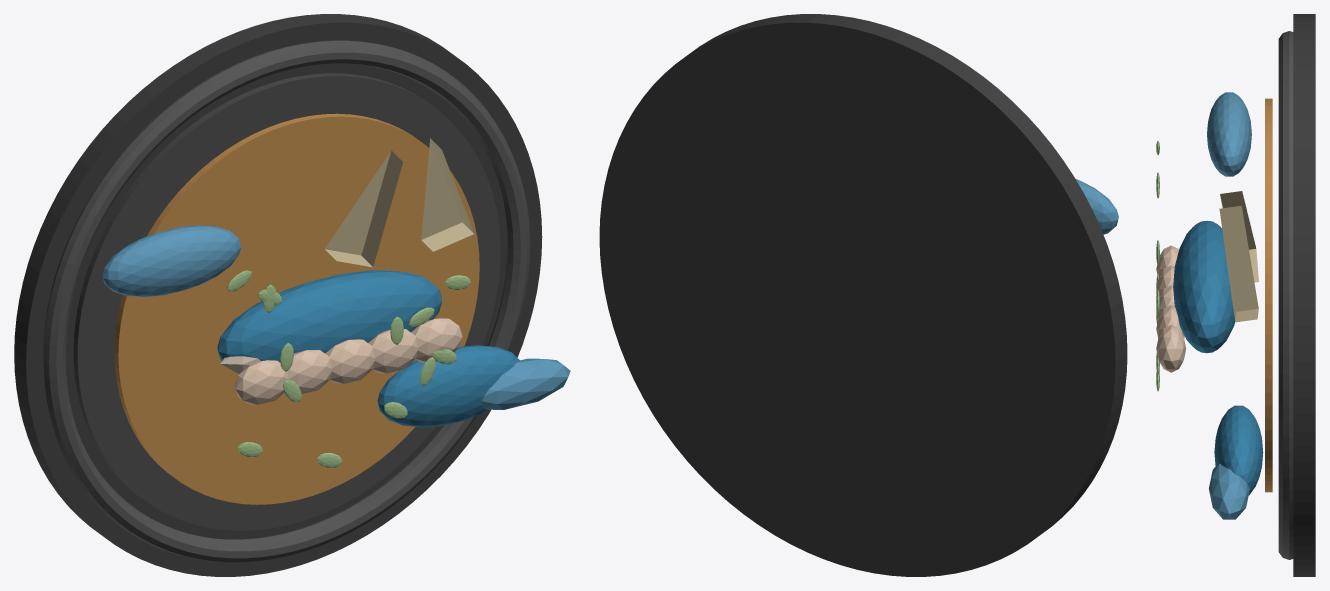
File: 03_blue_lobster_bisque_fennel.glb
3 views of the same model, side by side, from view 1: azimuth 30°, elevation 25°; view 2: azimuth 150°, elevation 25°; view 3: azimuth 270°, elevation 25° (orthographic). The views are drawn at different scales.
Visible parts, largest first — view 1: lobster_bisque_pool, plate_base, plate_surface, plate_rim, blue_lobster_body_shell, back_claw, foreground_claw, braised_fennel_0, braised_fennel_1, claw_tip, lobster_meat_lump_0, lobster_meat_lump_2 (+3 smaller); view 2: plate_base, back_claw; view 3: plate_base, plate_rim, blue_lobster_body_shell, lobster_bisque_pool, back_claw, foreground_claw, braised_fennel_1, claw_tip, lobster_meat_lump_4, braised_fennel_0, lobster_meat_lump_3, lobster_meat_lump_0 (+2 smaller).
Boxes of the visible parts, x1,y1,x2,y2 form: lobster_bisque_pool: [114, 113, 479, 504]; plate_base: [14, 14, 542, 576]; plate_surface: [73, 73, 500, 530]; plate_rim: [42, 40, 530, 562]; blue_lobster_body_shell: [217, 270, 442, 362]; back_claw: [102, 225, 240, 296]; foreground_claw: [377, 345, 520, 427]; braised_fennel_0: [325, 150, 402, 267]; braised_fennel_1: [421, 138, 473, 251]; claw_tip: [481, 358, 570, 409]; lobster_meat_lump_0: [235, 360, 288, 404]; lobster_meat_lump_2: [325, 339, 374, 383]; plate_base: [599, 14, 1127, 576]; back_claw: [1075, 179, 1118, 234]; plate_base: [1293, 14, 1315, 576]; plate_rim: [1278, 31, 1293, 559]; blue_lobster_body_shell: [1173, 220, 1234, 353]; lobster_bisque_pool: [1265, 98, 1272, 492]; back_claw: [1207, 92, 1251, 176]; foreground_claw: [1214, 405, 1263, 495]; braised_fennel_1: [1219, 205, 1258, 322]; claw_tip: [1209, 463, 1249, 519]; lobster_meat_lump_4: [1156, 325, 1186, 372]; braised_fennel_0: [1220, 191, 1258, 282]; lobster_meat_lump_3: [1156, 305, 1184, 338]; lobster_meat_lump_0: [1156, 245, 1178, 275].
Size of the model in its own units: 0.3 by 0.3 by 0.085.
